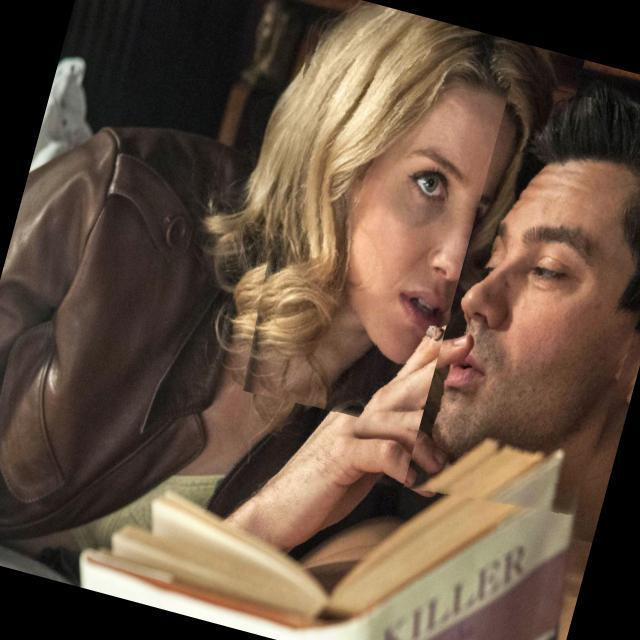cigarette: (376, 294, 502, 398)
